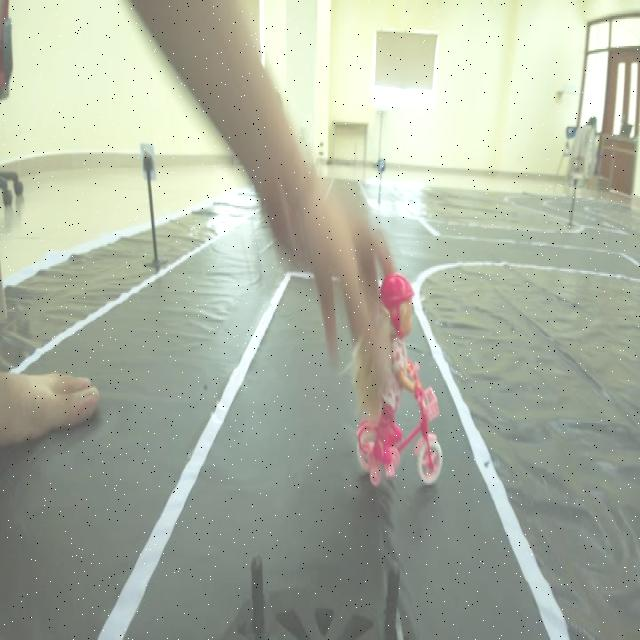pedestrian: (350, 267, 446, 478)
